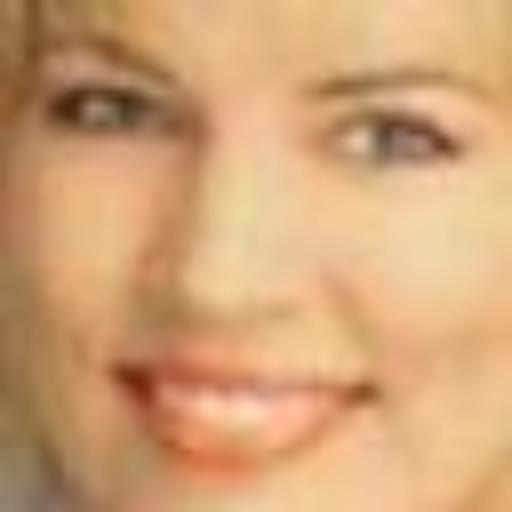left_eye: (313, 100, 468, 179)
left_lip_corner: (314, 368, 385, 420)
right_eye: (48, 75, 179, 146)
right_lip_corner: (97, 349, 173, 402)
